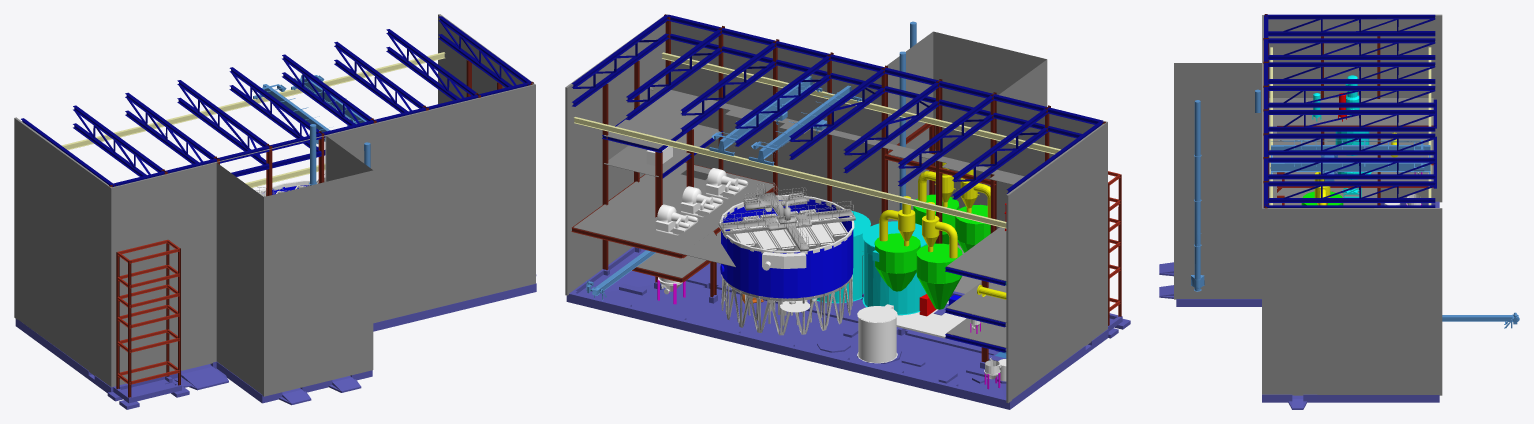
File: Building.FBX
The picture shows the model from 3 angles, left to right: view 1: azimuth 30°, elevation 25°; view 2: azimuth 150°, elevation 25°; view 3: azimuth 270°, elevation 25°; orthographic projection. The views are drawn at different scales.
Visible parts, largest first — view 1: Box001, 5_FBX01, 4_FBX00, 5_FBX06, 5_FBX00, 5_FBX03, 3_FBX19, 1_FBX00; view 2: Box001, 5_FBX01, 4_FBX00, 5_FBX05, 5_FBX00, 1_FBX01, 5_FBX03, 3_FBX12, 3_FBX25, 1_FBX32, 2_FBX06, 2_FBX03 (+12 smaller); view 3: Box001, 5_FBX01, 5_FBX05, 1_FBX00, 4_FBX00, 3_FBX19, 3_FBX03, 5_FBX00, 5_FBX06, 5_FBX03.
Boxes of the visible parts, bbox=[...] form: Box001: bbox=[14, 14, 535, 396]; 5_FBX01: bbox=[21, 16, 531, 186]; 4_FBX00: bbox=[15, 274, 536, 409]; 5_FBX06: bbox=[117, 239, 179, 384]; 5_FBX00: bbox=[109, 60, 533, 397]; 5_FBX03: bbox=[61, 52, 445, 187]; 3_FBX19: bbox=[253, 84, 329, 185]; 1_FBX00: bbox=[291, 75, 371, 167]; Box001: bbox=[565, 14, 1107, 403]; 5_FBX01: bbox=[572, 14, 1103, 352]; 4_FBX00: bbox=[566, 244, 1130, 409]; 5_FBX05: bbox=[573, 87, 1024, 347]; 5_FBX00: bbox=[571, 14, 1121, 362]; 1_FBX01: bbox=[720, 199, 853, 298]; 5_FBX03: bbox=[574, 52, 1060, 228]; 3_FBX12: bbox=[646, 146, 1006, 381]; 3_FBX25: bbox=[874, 233, 962, 309]; 1_FBX32: bbox=[721, 201, 852, 335]; 2_FBX06: bbox=[718, 182, 855, 251]; 2_FBX03: bbox=[719, 195, 854, 252]; Box001: bbox=[1174, 14, 1442, 395]; 5_FBX01: bbox=[1264, 14, 1436, 207]; 5_FBX05: bbox=[1269, 98, 1433, 205]; 1_FBX00: bbox=[1191, 100, 1518, 328]; 4_FBX00: bbox=[1159, 201, 1439, 409]; 3_FBX19: bbox=[1255, 89, 1519, 328]; 3_FBX03: bbox=[1312, 75, 1371, 197]; 5_FBX00: bbox=[1263, 14, 1380, 208]; 5_FBX06: bbox=[1277, 125, 1433, 205]; 5_FBX03: bbox=[1270, 47, 1431, 205].
Bounding box in the file's own units: 53660 × 26961 × 40343.
